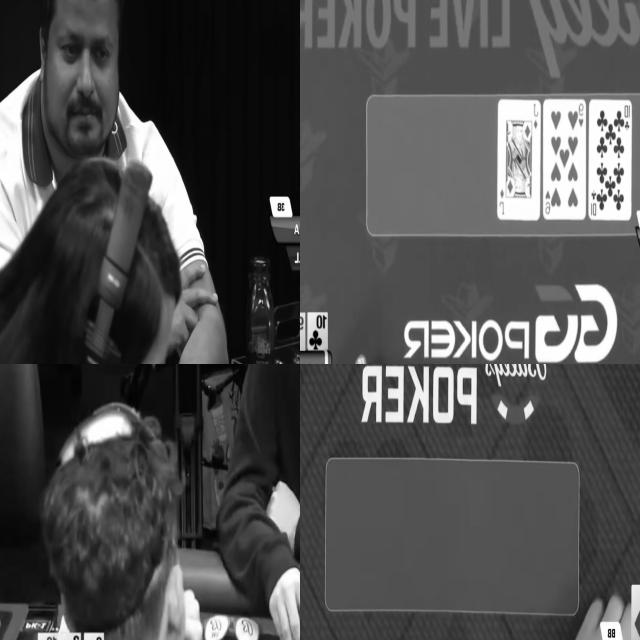9D: (632, 585, 640, 640)
9H: (300, 311, 305, 350)
